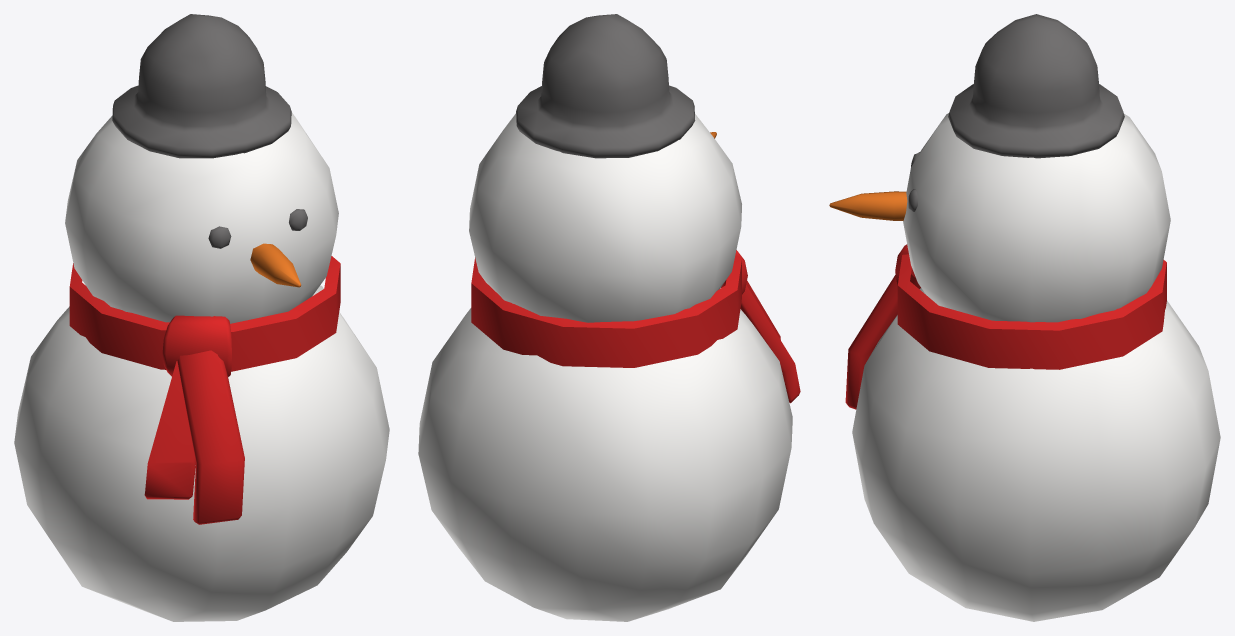
The model's file is Snowman_04.glb.
3 views of the same model, side by side, from view 1: azimuth 30°, elevation 25°; view 2: azimuth 150°, elevation 25°; view 3: azimuth 270°, elevation 25° (orthographic).
Parts seen in each view (by area): view 1: Snowman_5; view 2: Snowman_5; view 3: Snowman_5.
Boxes of the visible parts, x1,y1,x2,y2 form: Snowman_5: (14,14,389,621); Snowman_5: (418,14,800,621); Snowman_5: (829,14,1220,621).
Bounding box in the file's own units: 268 × 469 × 285.
Materials: 1 (1 with a texture image).
